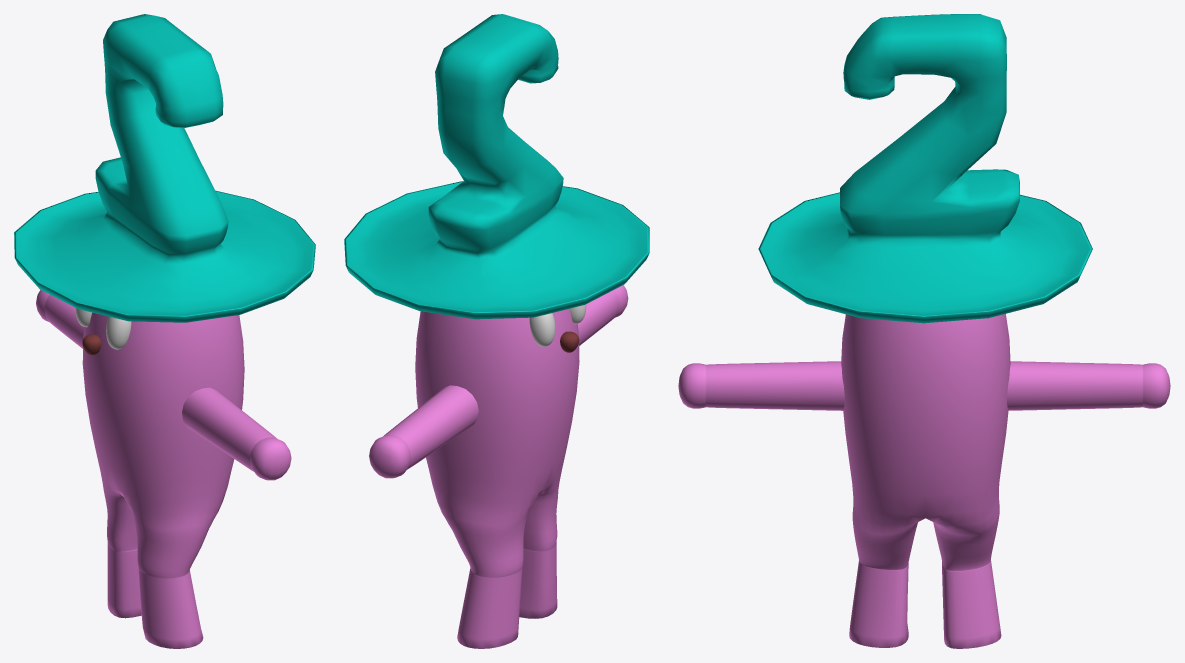
Rendered from numero 2.fbx.
The picture shows the model from 3 angles, left to right: view 1: azimuth 30°, elevation 25°; view 2: azimuth 150°, elevation 25°; view 3: azimuth 270°, elevation 25°; orthographic projection. The views are drawn at different scales.
Visible parts, largest first — view 1: polySurface14; view 2: polySurface14; view 3: polySurface14.
Part boxes in pixels (x1=…): polySurface14: x1=14, y1=14, x2=315, y2=648; polySurface14: x1=344, y1=14, x2=649, y2=648; polySurface14: x1=678, y1=14, x2=1170, y2=648.
Size of the model in its own units: 66.33 by 143 by 103.
